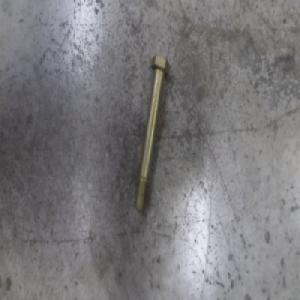Bolt: (133, 53, 170, 212)
